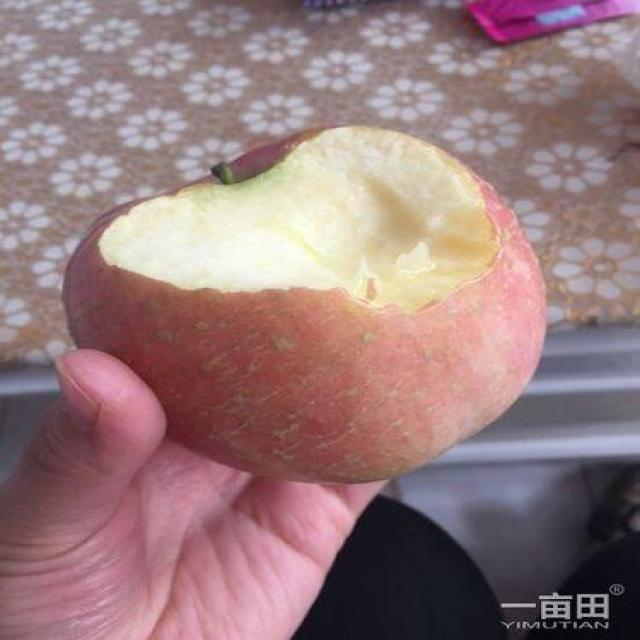Rotten: (64, 118, 550, 488)
